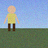person: (4, 6, 19, 31)
